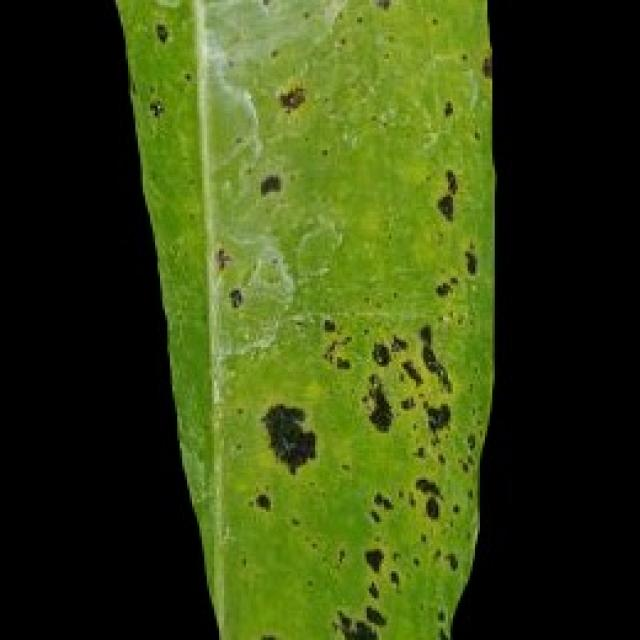mite: (251, 165, 288, 202), (423, 399, 450, 431), (148, 17, 172, 47), (256, 170, 281, 197), (143, 94, 167, 121), (369, 340, 391, 367), (362, 544, 384, 571), (421, 492, 441, 519), (362, 603, 386, 625), (436, 192, 455, 219), (460, 249, 478, 273), (251, 490, 271, 510), (145, 96, 162, 116), (153, 20, 167, 42), (367, 0, 391, 10)
sunburn: (256, 399, 320, 478)
